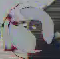Don't turn left: (1, 3, 54, 54)
